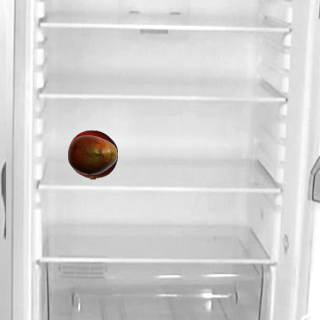Apple Braeburn: (67, 129, 117, 179)
Mango Red: (67, 129, 117, 179)
